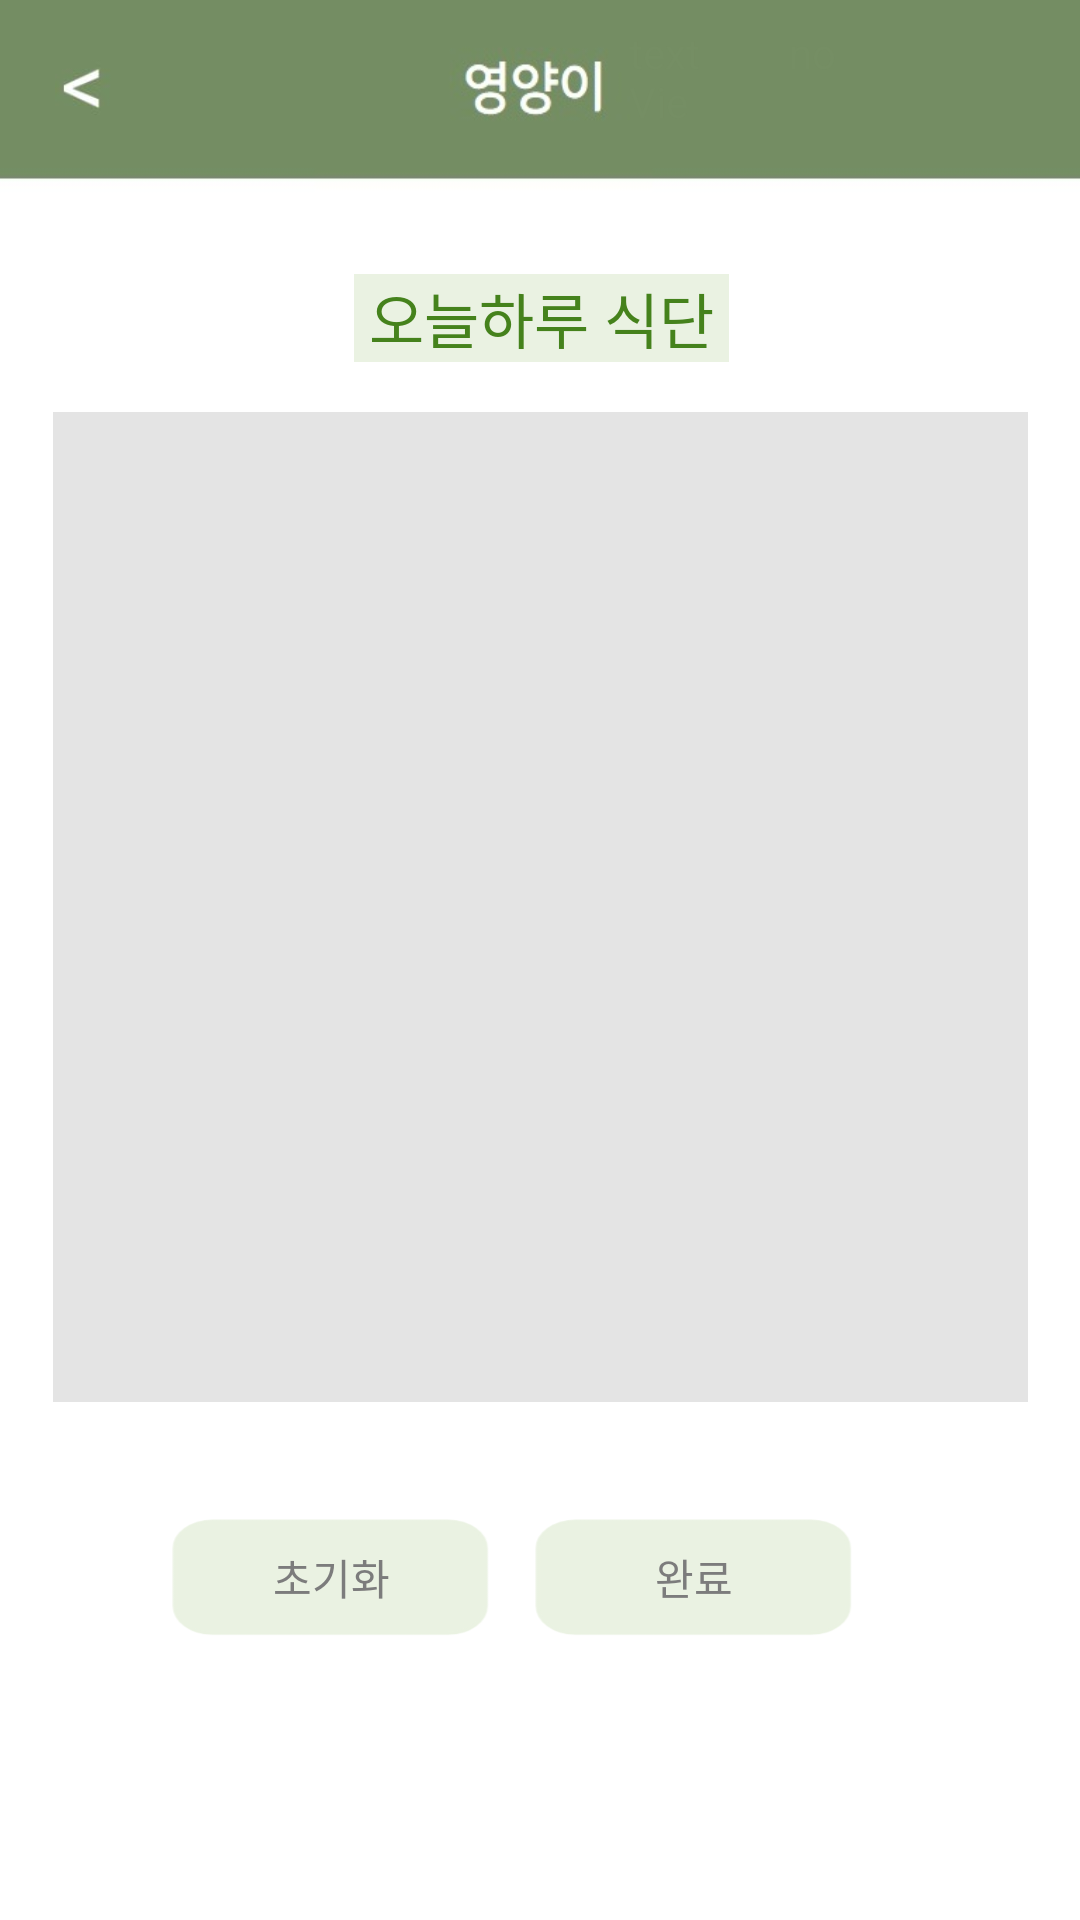

Where to tap for icons on this 1080×1920 app screen, as [x,y]:
backimage: [81,88]
